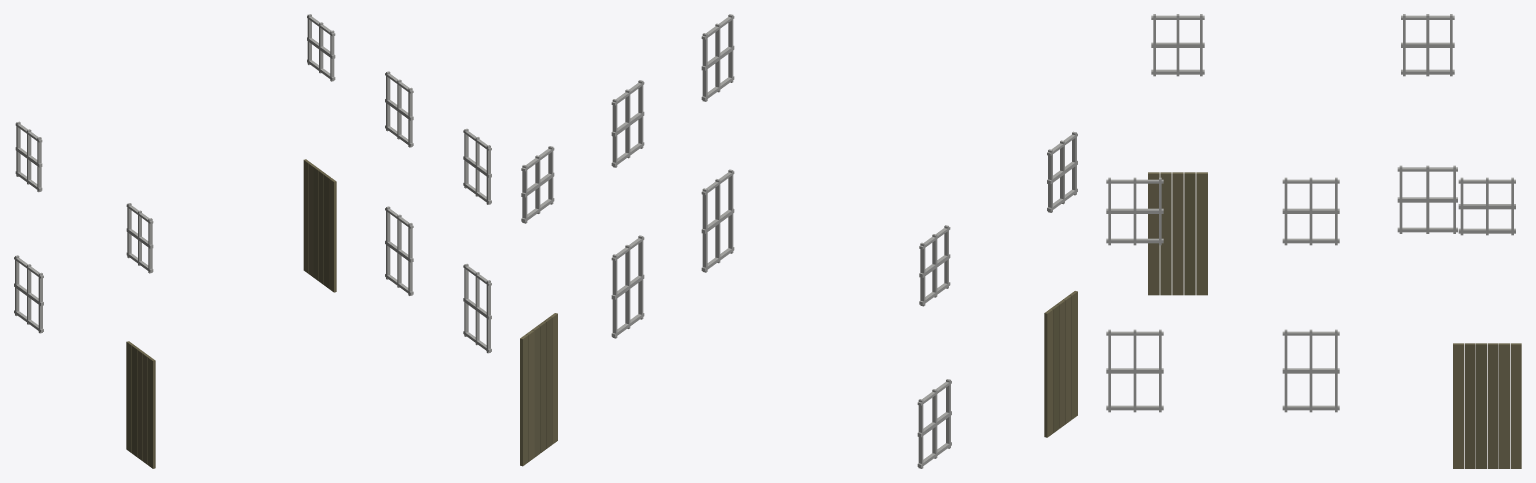
Rendered from SM_Bld_119_Wood.glb.
The picture shows the model from 3 angles, left to right: view 1: azimuth 30°, elevation 25°; view 2: azimuth 150°, elevation 25°; view 3: azimuth 270°, elevation 25°; orthographic projection. The views are drawn at different scales.
Parts seen in each view (by area): view 1: SM_Bld_119_Wood; view 2: SM_Bld_119_Wood; view 3: SM_Bld_119_Wood.
Boxes of the visible parts, x1,y1,x2,y2 form: SM_Bld_119_Wood: (14, 14, 491, 468); SM_Bld_119_Wood: (520, 14, 1077, 468); SM_Bld_119_Wood: (1106, 14, 1521, 468).
Bounding box in the file's own units: 6.24 × 4.78 × 6.2.
